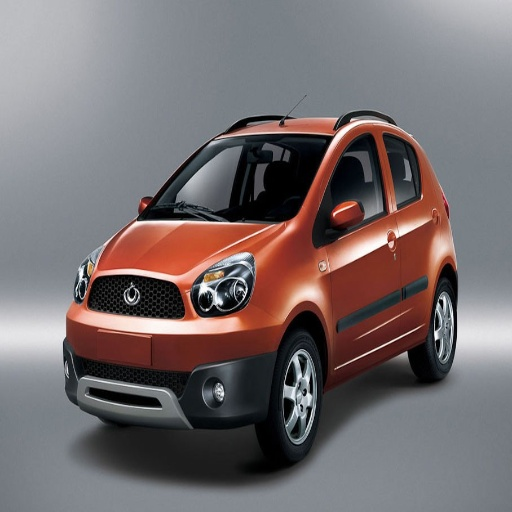front_bumper: (65, 273, 284, 429)
front_glass: (140, 138, 331, 218)
front_left_door: (317, 124, 402, 362)
